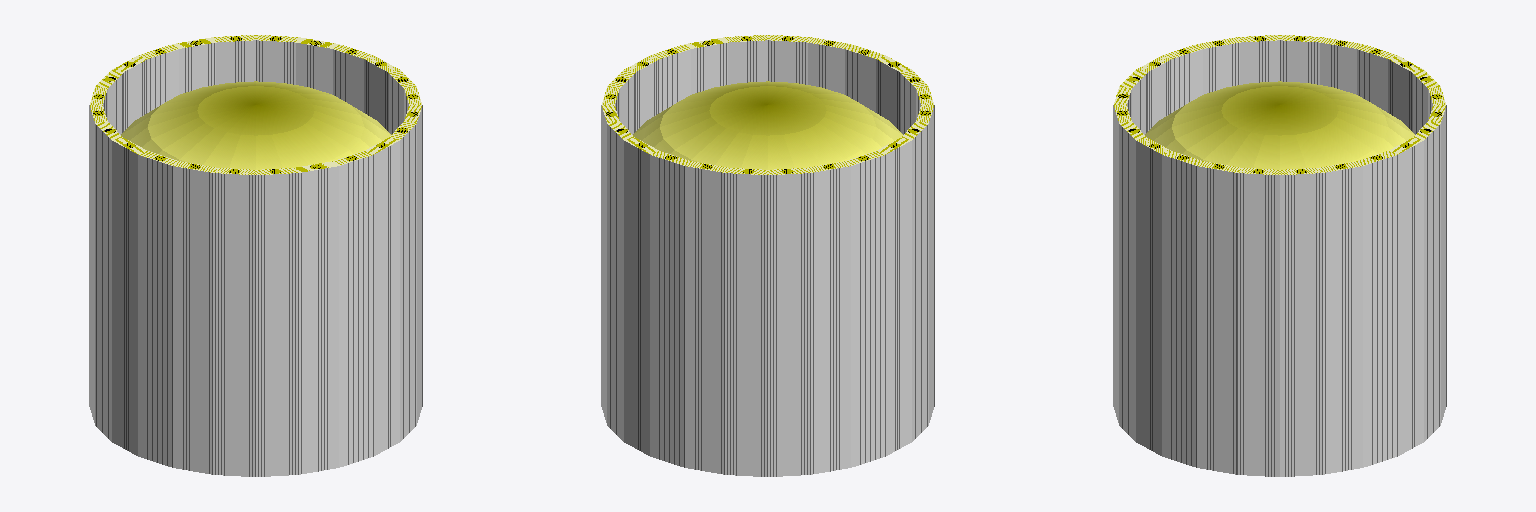
3 views of the same model, side by side, from view 1: azimuth 30°, elevation 25°; view 2: azimuth 150°, elevation 25°; view 3: azimuth 270°, elevation 25° (orthographic).
Visible parts, largest first — view 1: Wall, CapTop; view 2: Wall, CapTop; view 3: Wall, CapTop.
Part boxes in pixels (x1,y1,x2,y2): Wall: (89, 35, 422, 476); CapTop: (121, 81, 390, 169); Wall: (601, 35, 934, 476); CapTop: (633, 81, 902, 169); Wall: (1113, 35, 1446, 476); CapTop: (1145, 81, 1414, 169).
Bounding box in the file's own units: 1.25 × 1.25 × 1.25.
3 materials, 3 textured.